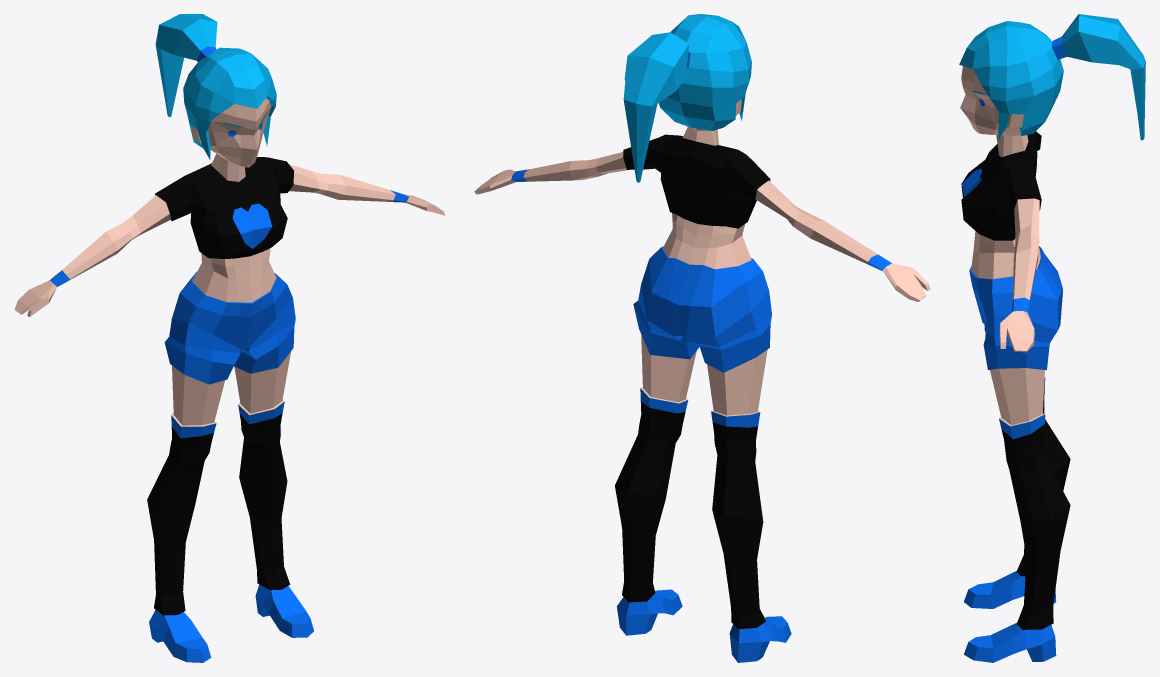
Rendered from girl-model.fbx.
3 renders of one model, left to right at view 1: azimuth 30°, elevation 25°; view 2: azimuth 150°, elevation 25°; view 3: azimuth 270°, elevation 25°, orthographic. The views are drawn at different scales.
Parts seen in each view (by area): view 1: Cube.047; view 2: Cube.047; view 3: Cube.047.
Boxes of the visible parts, x1,y1,x2,y2 form: Cube.047: (14,14,445,662); Cube.047: (474,14,930,662); Cube.047: (959,14,1145,662).
Bounding box in the file's own units: 123 × 164 × 45.35.
Materials: 1 (1 with a texture image).
